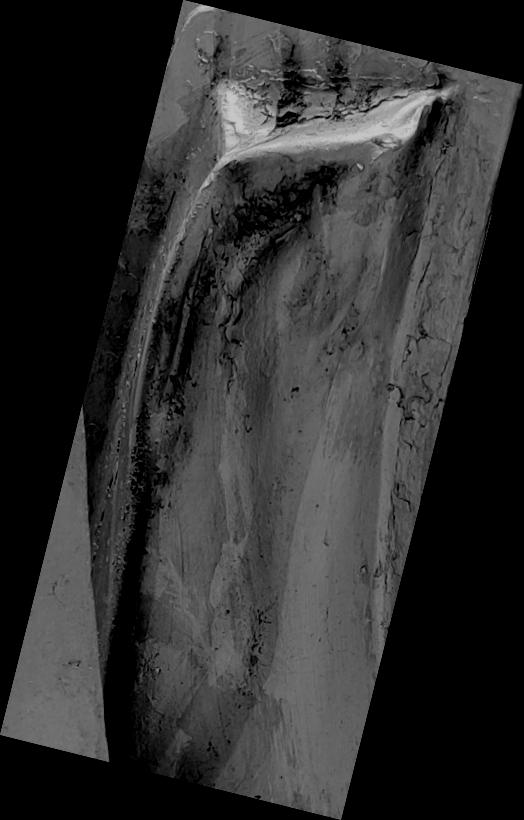dent: (0, 1, 524, 820)
